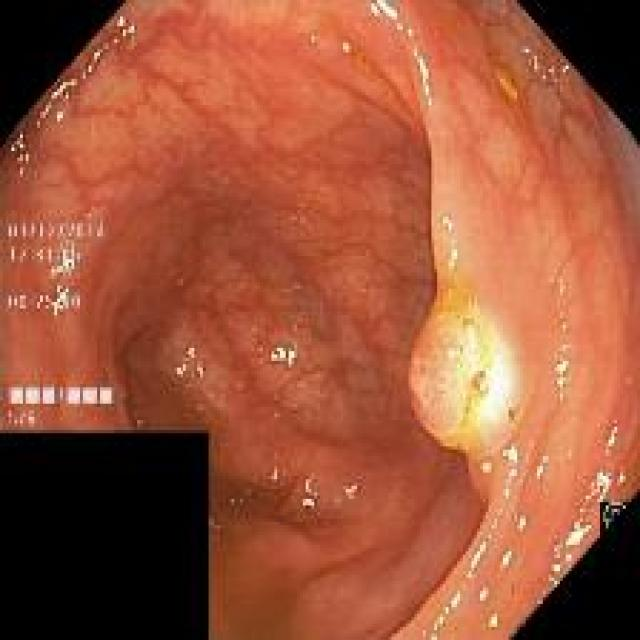Polyps: (410, 279, 518, 457)
